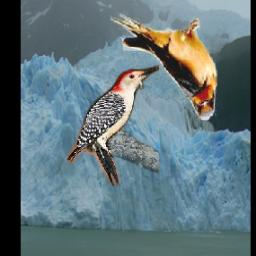Swallow: (111, 8, 218, 121)
Woodpecker: (66, 66, 159, 188)
